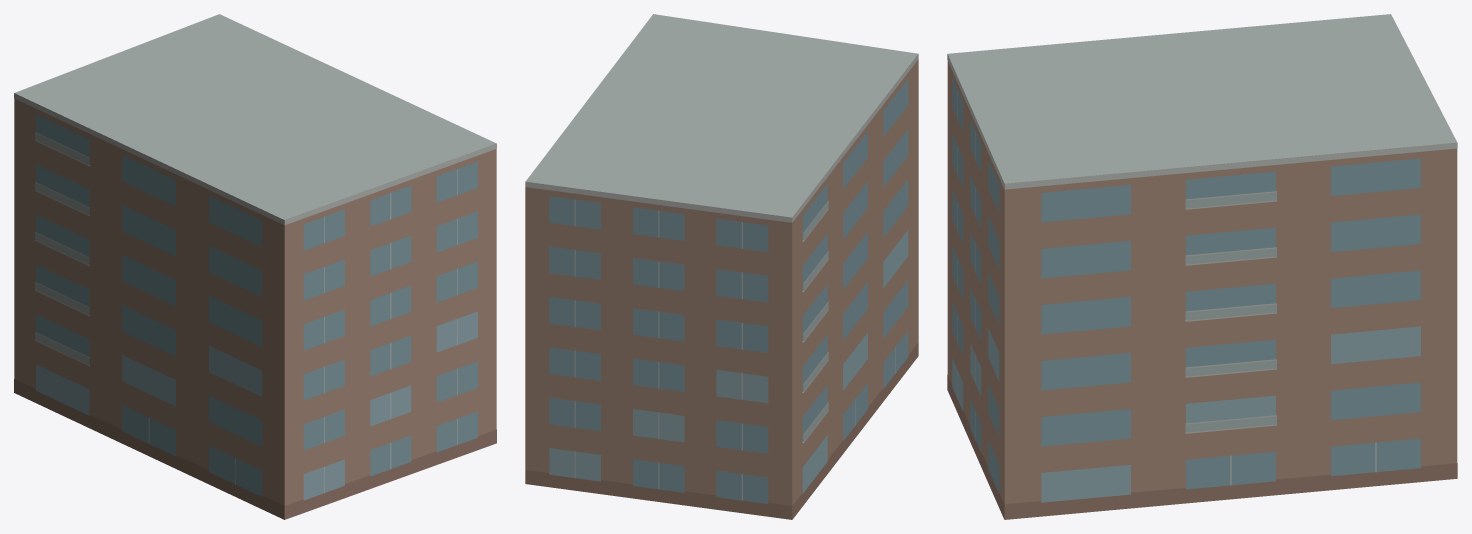
File: survey-upis-32568203.glb
The picture shows the model from 3 angles, left to right: view 1: azimuth 30°, elevation 25°; view 2: azimuth 150°, elevation 25°; view 3: azimuth 270°, elevation 25°; orthographic projection. The views are drawn at different scales.
Visible parts, largest first — view 1: survey-upis-32568203.tmp; view 2: survey-upis-32568203.tmp; view 3: survey-upis-32568203.tmp.
Boxes of the visible parts, x1,y1,x2,y2 form: survey-upis-32568203.tmp: (14, 14, 496, 519); survey-upis-32568203.tmp: (525, 14, 918, 519); survey-upis-32568203.tmp: (947, 14, 1457, 519).
Bounding box in the file's own units: 15.06 × 13.9 × 19.12.
